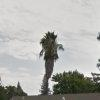Palm tree: (36, 26, 64, 91)
